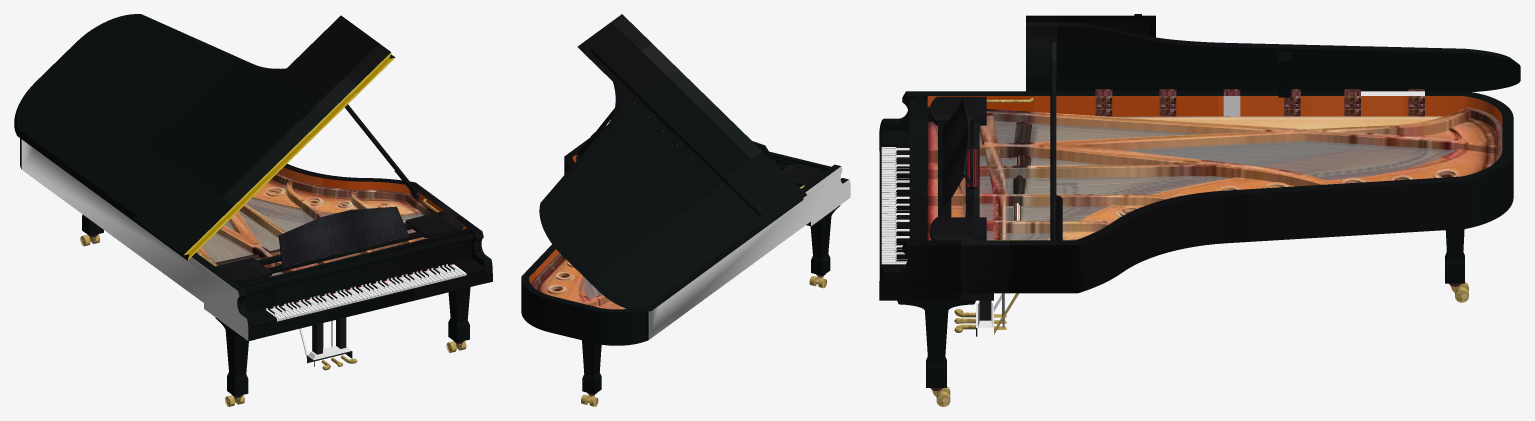
File: grand-piano.glb
3 views of the same model, side by side, from view 1: azimuth 30°, elevation 25°; view 2: azimuth 150°, elevation 25°; view 3: azimuth 270°, elevation 25° (orthographic). The views are drawn at different scales.
Visible parts, largest first — view 1: Object_16, Object_15, Object_13, Object_14, Object_10, Object_4, Object_6, Object_19, Object_11, Object_17, Object_9; view 2: Object_16, Object_15, Object_13, Object_17; view 3: Object_16, Object_13, Object_10, Object_6, Object_14, Object_12, Object_4, Object_15, Object_17.
Part boxes in pixels (<box>): Object_16: <box>14,14,492,396</box>; Object_15: <box>21,61,454,401</box>; Object_13: <box>196,173,435,275</box>; Object_14: <box>268,192,454,314</box>; Object_10: <box>201,198,423,276</box>; Object_4: <box>267,264,465,319</box>; Object_6: <box>278,167,466,229</box>; Object_19: <box>184,52,450,401</box>; Object_11: <box>188,58,394,259</box>; Object_17: <box>80,193,466,406</box>; Object_9: <box>277,273,466,321</box>; Object_16: <box>521,14,848,394</box>; Object_15: <box>595,166,850,402</box>; Object_13: <box>530,187,799,309</box>; Object_17: <box>577,155,826,406</box>; Object_16: <box>879,14,1520,387</box>; Object_13: <box>927,106,1502,240</box>; Object_10: <box>979,120,1455,240</box>; Object_6: <box>927,96,1502,127</box>; Object_14: <box>896,100,972,261</box>; Object_12: <box>1095,89,1424,116</box>; Object_4: <box>881,147,909,264</box>; Object_15: <box>896,91,1462,400</box>; Object_17: <box>932,97,1468,406</box>.
Bounding box in the file's own units: 46.33 × 49.64 × 78.88.
Materials: 17 (15 with a texture image).
